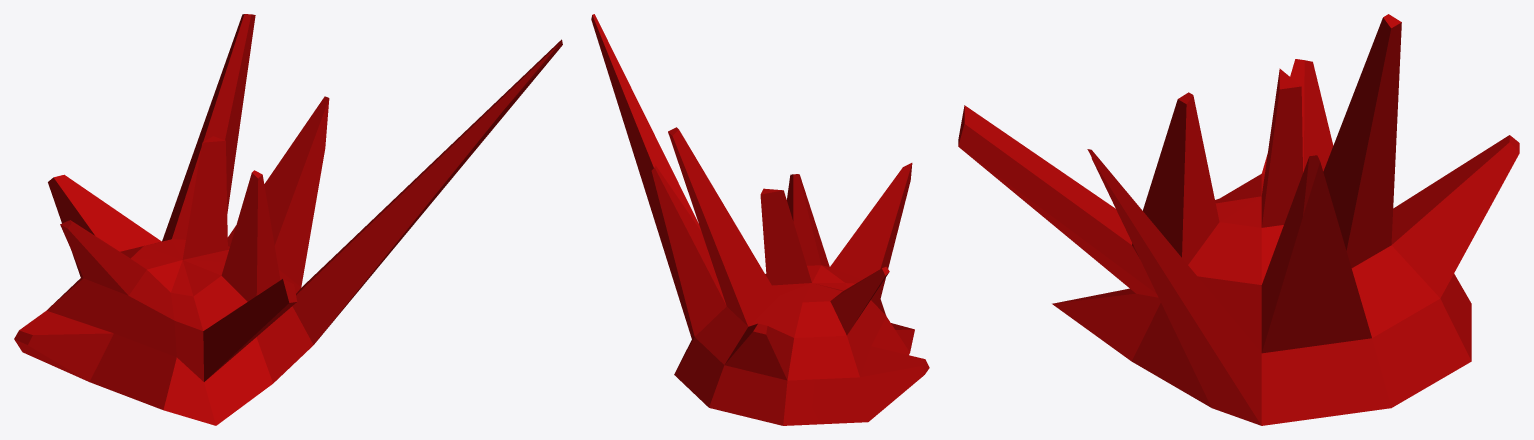
The model's file is Crystal_1.fbx.
3 renders of one model, left to right at view 1: azimuth 30°, elevation 25°; view 2: azimuth 150°, elevation 25°; view 3: azimuth 270°, elevation 25°, orthographic. The views are drawn at different scales.
Parts seen in each view (by area): view 1: pSphere1; view 2: pSphere1; view 3: pSphere1.
Part boxes in pixels (<box>): pSphere1: <box>14,14,562,425</box>; pSphere1: <box>591,14,929,425</box>; pSphere1: <box>958,14,1519,425</box>.
Size of the model in its own units: 277 by 163 by 210.
